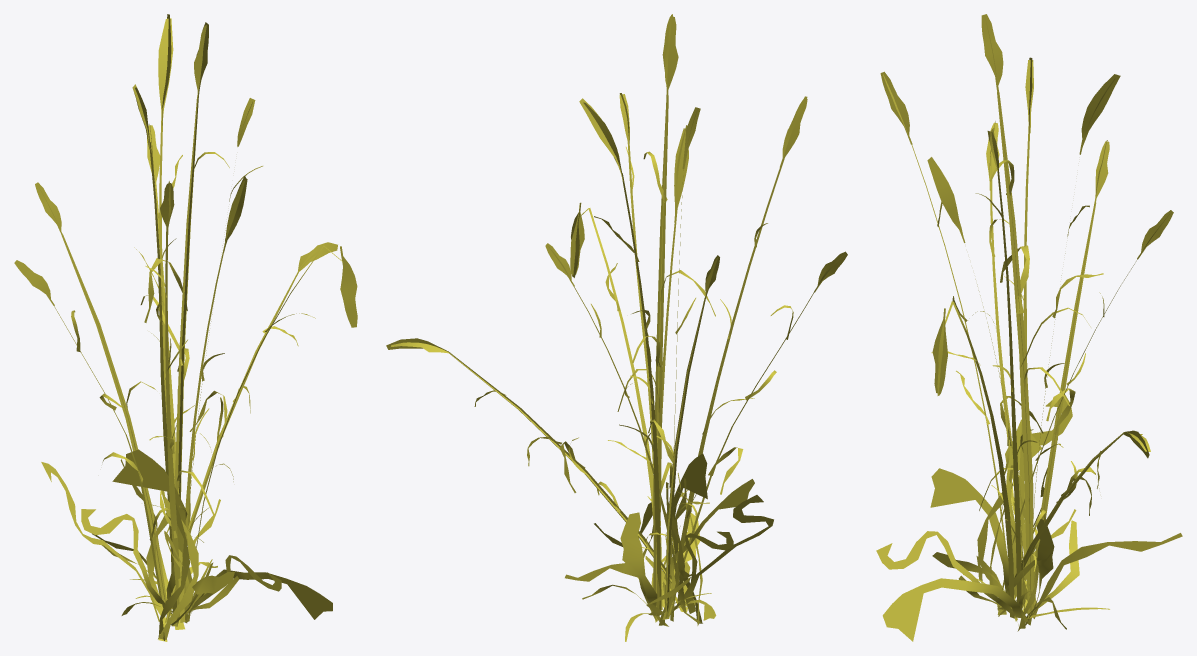
Rendered from Var1_LOD1.fbx.
3 renders of one model, left to right at view 1: azimuth 30°, elevation 25°; view 2: azimuth 150°, elevation 25°; view 3: azimuth 270°, elevation 25°, orthographic. The views are drawn at different scales.
Parts seen in each view (by area): view 1: Var3_LOD1; view 2: Var3_LOD1; view 3: Var3_LOD1.
Part boxes in pixels (x1,y1,x2,y2): Var3_LOD1: (14, 14, 357, 641); Var3_LOD1: (386, 14, 847, 641); Var3_LOD1: (876, 14, 1182, 641).
Bounding box in the file's own units: 88.44 × 130 × 58.32.
